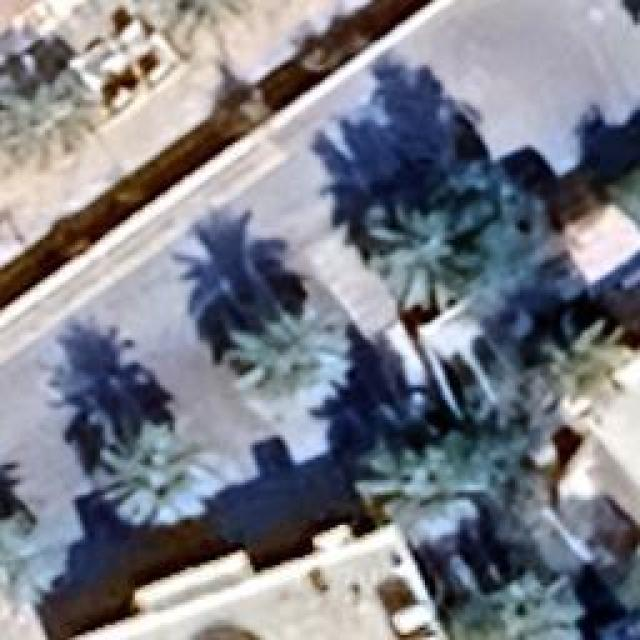PalmTree: (48, 95, 429, 480), (368, 160, 560, 320), (464, 315, 638, 435), (387, 560, 585, 638), (230, 298, 352, 412), (95, 420, 215, 522), (593, 164, 640, 317), (0, 493, 50, 617), (137, 0, 258, 40)
